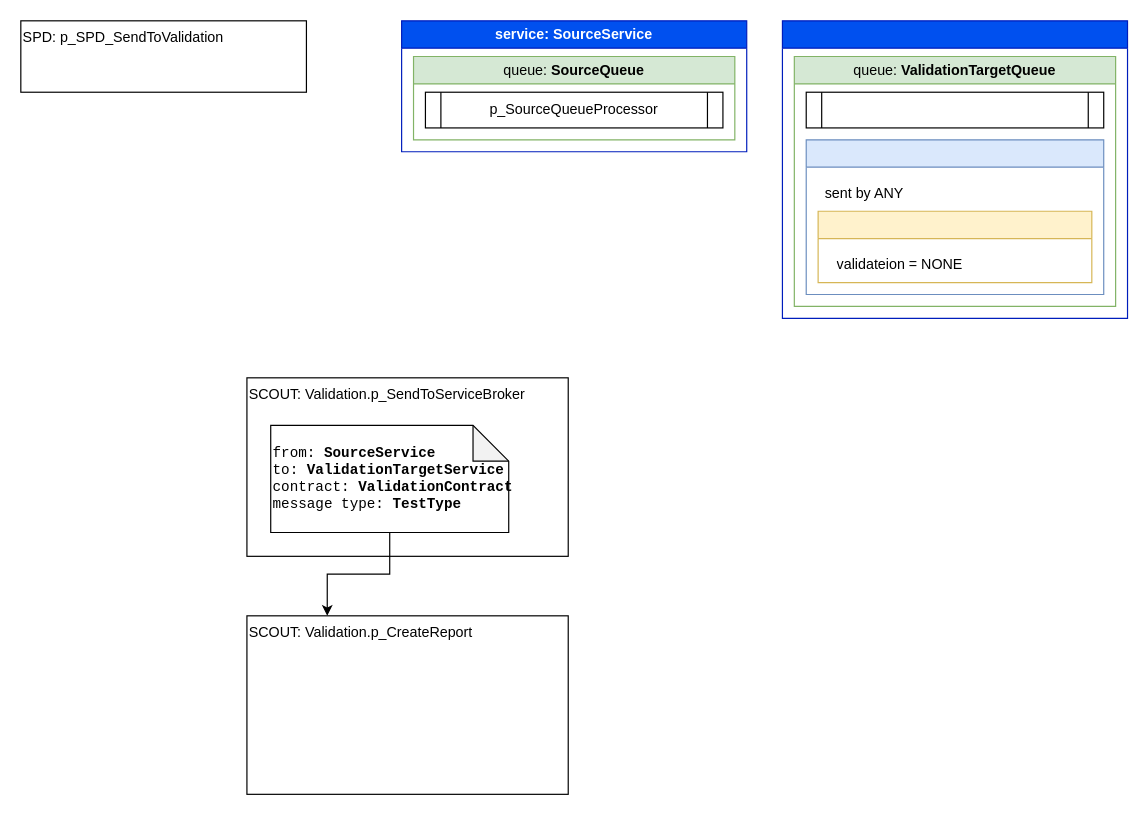
Some shapes in this 1148 by 815 pixel diagram are drawn without their labels. The shapes that lost their labels are listed below. From the top down, each one's box as (x1, y1, x2, y2) in pixels, then its label:
(805, 91, 1104, 128): Validation.p_CreateReport
(781, 20, 1128, 318): service: ValidationTargetService
(805, 139, 1104, 295): contract: ValidationContract
(817, 210, 1092, 283): message type: TestType
